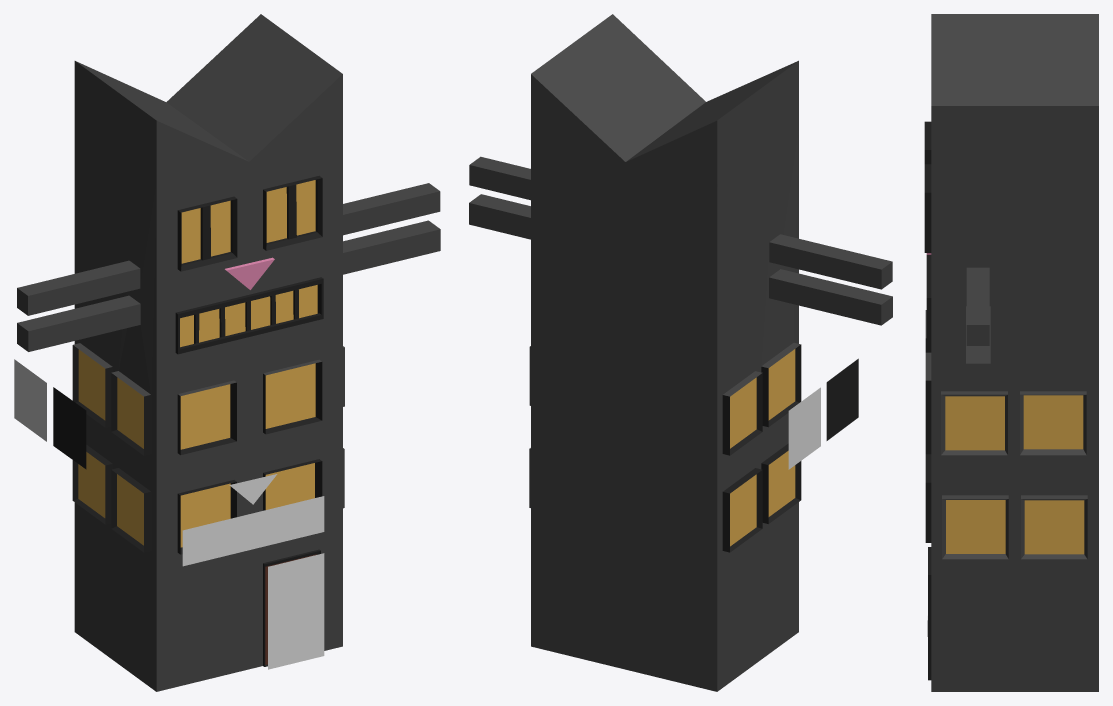
File: building2_f.fbx
3 renders of one model, left to right at view 1: azimuth 30°, elevation 25°; view 2: azimuth 150°, elevation 25°; view 3: azimuth 270°, elevation 25°, orthographic. The views are drawn at different scales.
Visible parts, largest first — view 1: Cube, porte, bouche, oeil_g, oeil_d, nez; view 2: Cube, oeil_g, oeil_d; view 3: Cube.
Part boxes in pixels (x1,y1,x2,y2): Cube: (17, 14, 440, 691); porte: (268, 553, 324, 669); bouche: (182, 496, 324, 566); oeil_g: (53, 387, 86, 469); oeil_d: (14, 359, 46, 441); nez: (229, 474, 277, 504); Cube: (469, 14, 892, 691); oeil_g: (826, 358, 858, 440); oeil_d: (788, 387, 820, 469); Cube: (924, 14, 1098, 691).
Bounding box in the file's own units: 8451 × 11224 × 3084.
